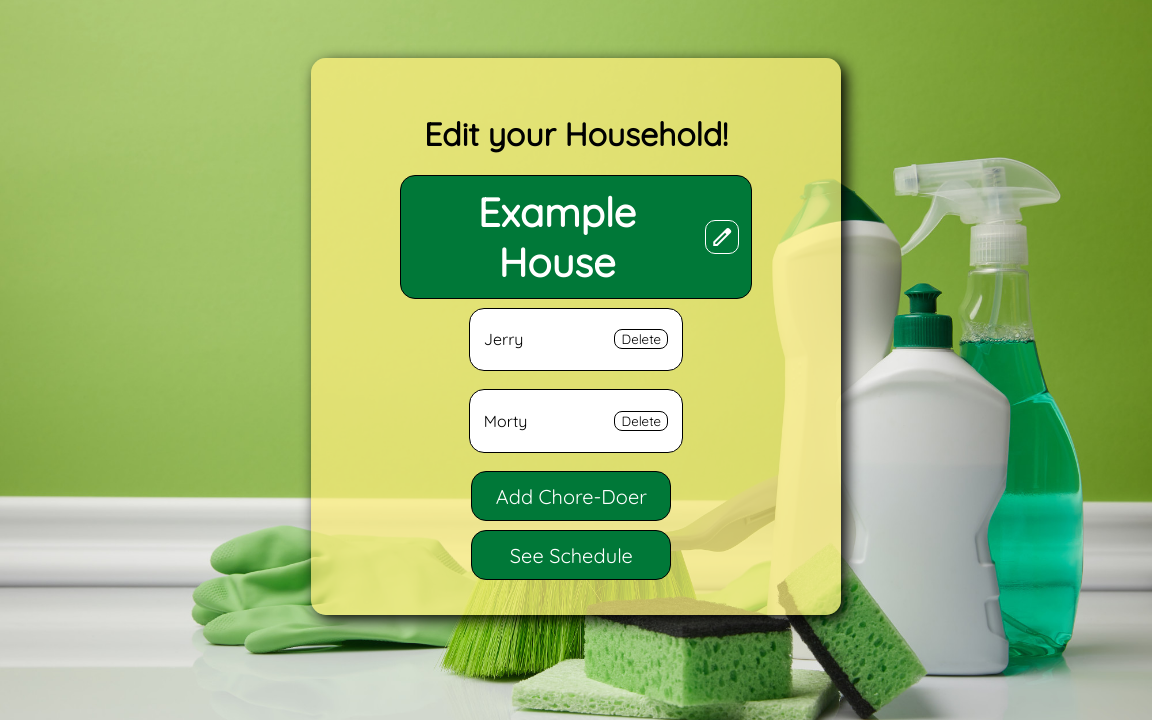
Scenario: House Form › should allow a user to add a member to their household
Expected: the text "Morty" is shown, [484,411,527,431]
Click the button with class "house-btn" showing "Add Chore-Doer". click: (571, 496)
box: [471,471,671,521]
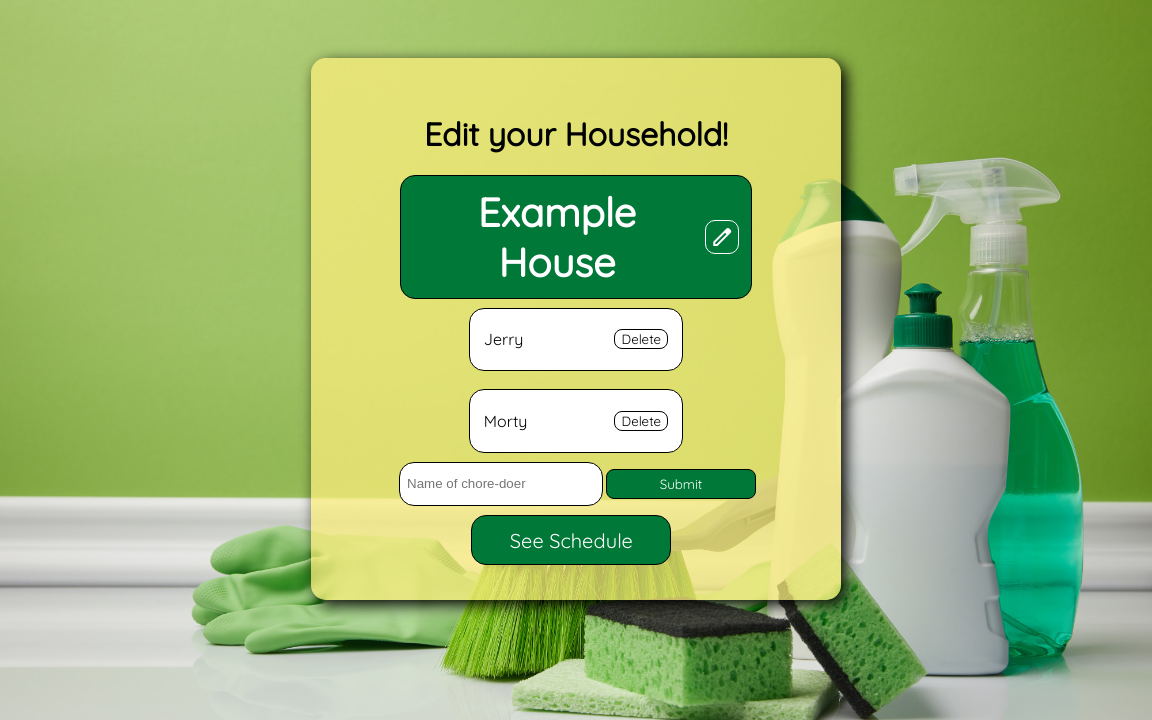
Type "Rick" into the field with id "memberInput". click: (501, 484)
box: [399,462,603,506]
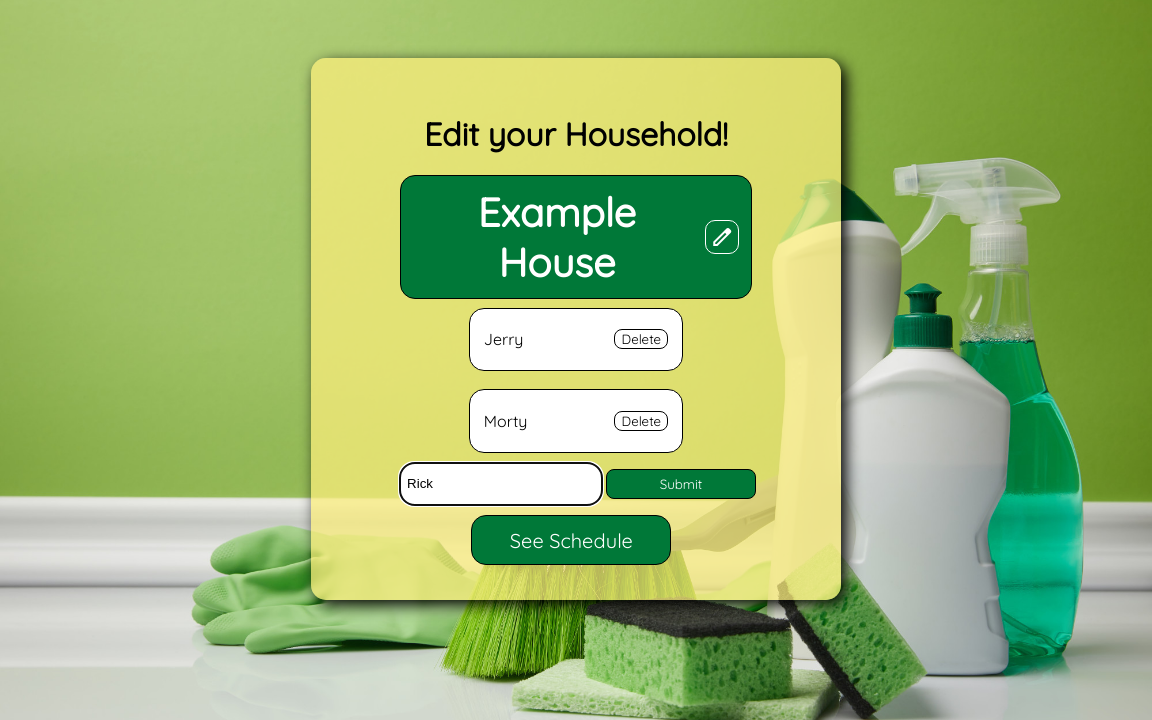
Click the button with class "submit-member". click: (681, 484)
box: [606,469,756,499]
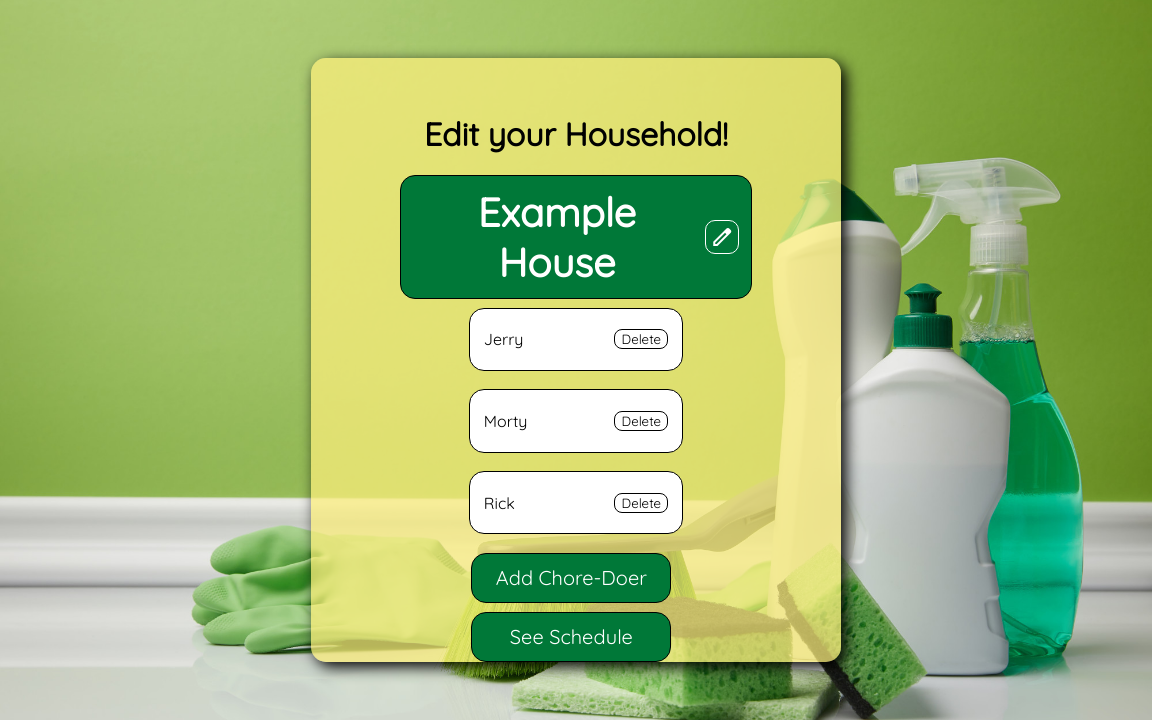
Result: the text "Rick" is shown at [484,493,515,513]
